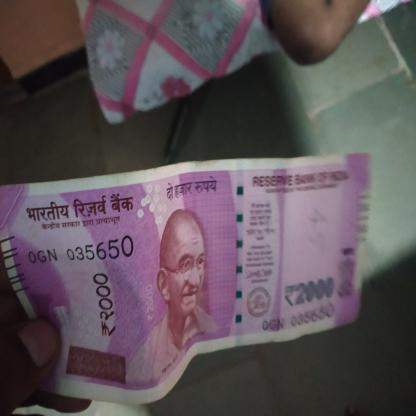New2000Front: (2, 168, 367, 384)
